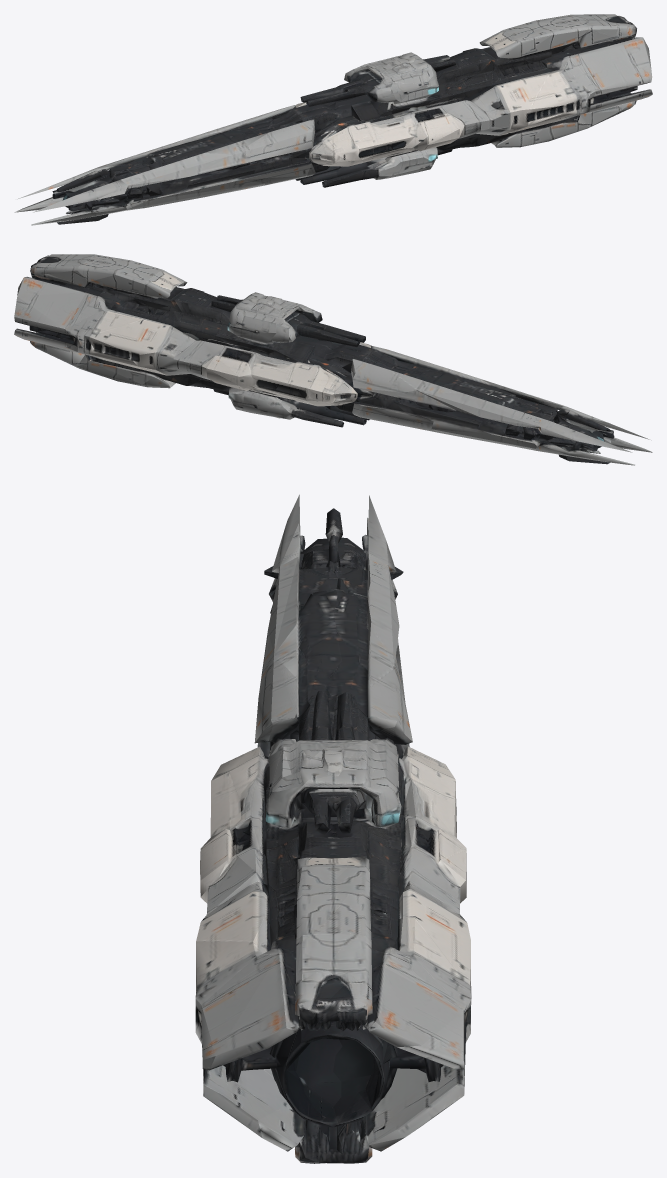
File: nonwarp_frigate@1k.glb
3 renders of one model, top to bottom at view 1: azimuth 30°, elevation 25°; view 2: azimuth 150°, elevation 25°; view 3: azimuth 270°, elevation 25°, orthographic. The views are drawn at different scales.
Visible parts, largest first — view 1: Mesh_0; view 2: Mesh_0; view 3: Mesh_0.
Boxes of the visible parts, x1=… form: Mesh_0: x1=14, y1=14, x2=652, y2=225; Mesh_0: x1=14, y1=254, x2=652, y2=465; Mesh_0: x1=195, y1=494, x2=471, y2=1163.
Size of the model in its own units: 1 by 0.1718 by 0.1962.
1 material, 1 textured.
